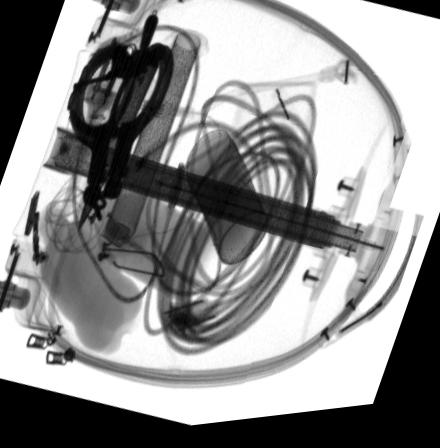Bullet: (76, 61, 157, 233)
Gun: (72, 17, 159, 90)
HandCuffs: (67, 41, 176, 211)
